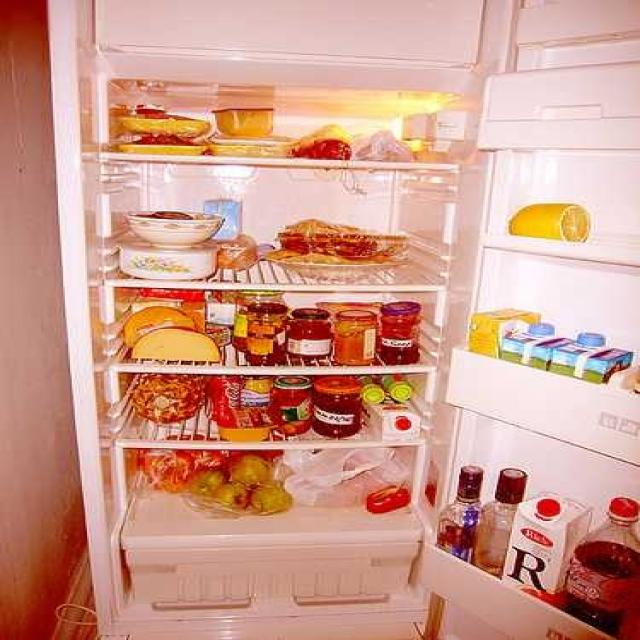refrigerator: (84, 46, 626, 624)
